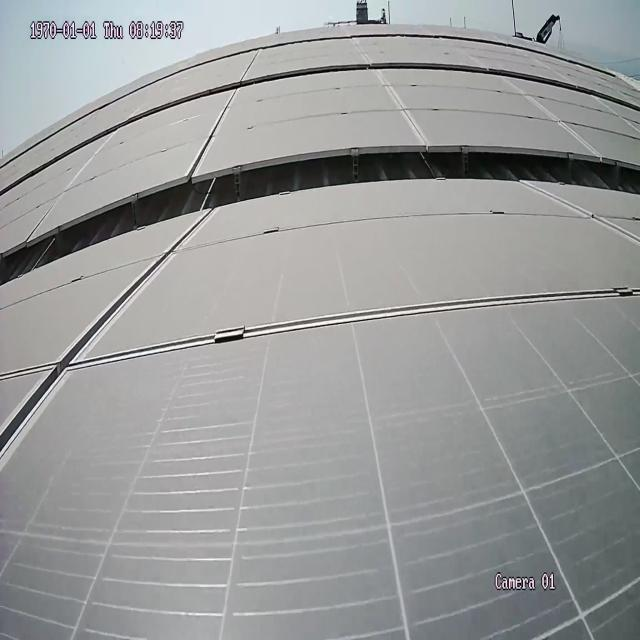interior panel: (0, 212, 635, 473), (526, 189, 636, 244), (511, 84, 595, 147), (189, 94, 238, 170), (380, 75, 427, 136)
outher panel: (1, 141, 639, 290)
